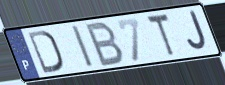7: (115, 16, 142, 63)
B: (84, 20, 127, 69)
D: (26, 28, 65, 75)
I: (69, 23, 96, 69)
J: (186, 9, 209, 53)
T: (144, 12, 178, 58)
